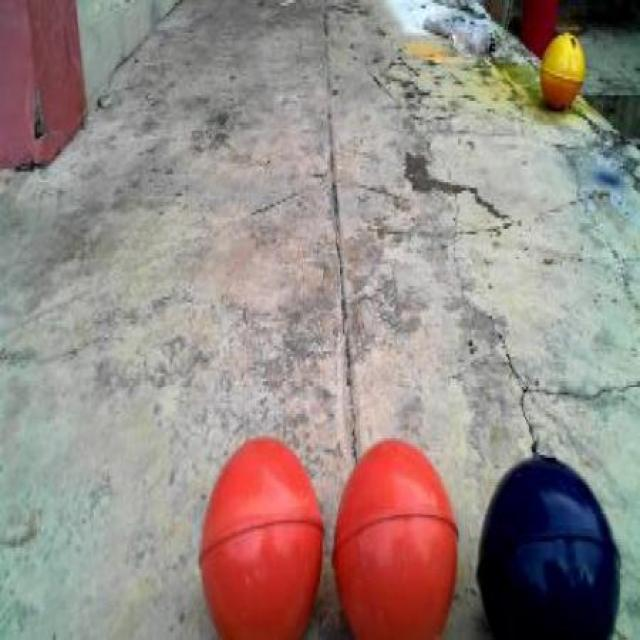buoy: (472, 447, 626, 634), (194, 420, 327, 636), (329, 430, 463, 635)
